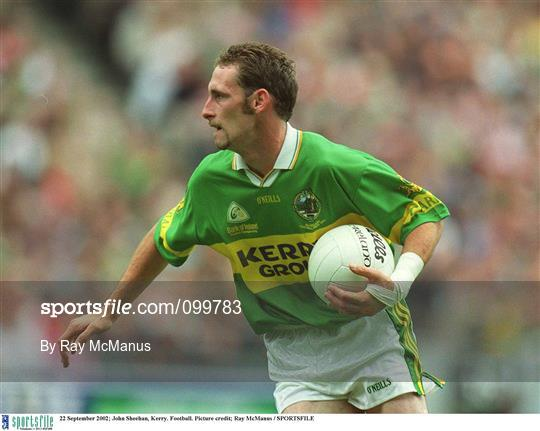ball: (306, 217, 399, 312)
player: (188, 35, 425, 410)
